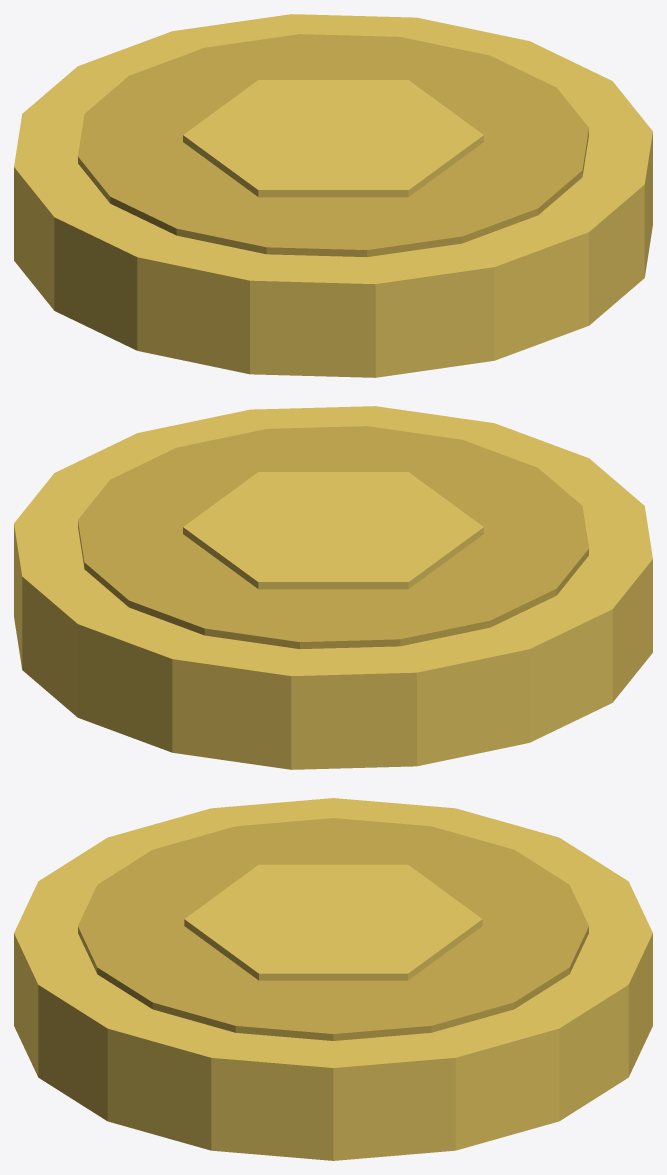
The model's file is coin.glb.
3 views of the same model, one above another, from view 1: azimuth 30°, elevation 25°; view 2: azimuth 150°, elevation 25°; view 3: azimuth 270°, elevation 25° (orthographic).
Visible parts, largest first — view 1: CoinDisc, CoinRim, CoinStar; view 2: CoinDisc, CoinRim, CoinStar; view 3: CoinDisc, CoinRim, CoinStar.
Part boxes in pixels (x1=…): CoinDisc: x1=14, y1=14, x2=652, y2=377; CoinRim: x1=78, y1=34, x2=588, y2=256; CoinStar: x1=183, y1=80, x2=483, y2=197; CoinDisc: x1=14, y1=406, x2=652, y2=769; CoinRim: x1=78, y1=426, x2=588, y2=648; CoinStar: x1=183, y1=472, x2=483, y2=589; CoinDisc: x1=14, y1=798, x2=652, y2=1160; CoinRim: x1=78, y1=818, x2=588, y2=1040; CoinStar: x1=184, y1=864, x2=482, y2=980.
Bounding box in the file's own units: 0.36 × 0.0707 × 0.36.
